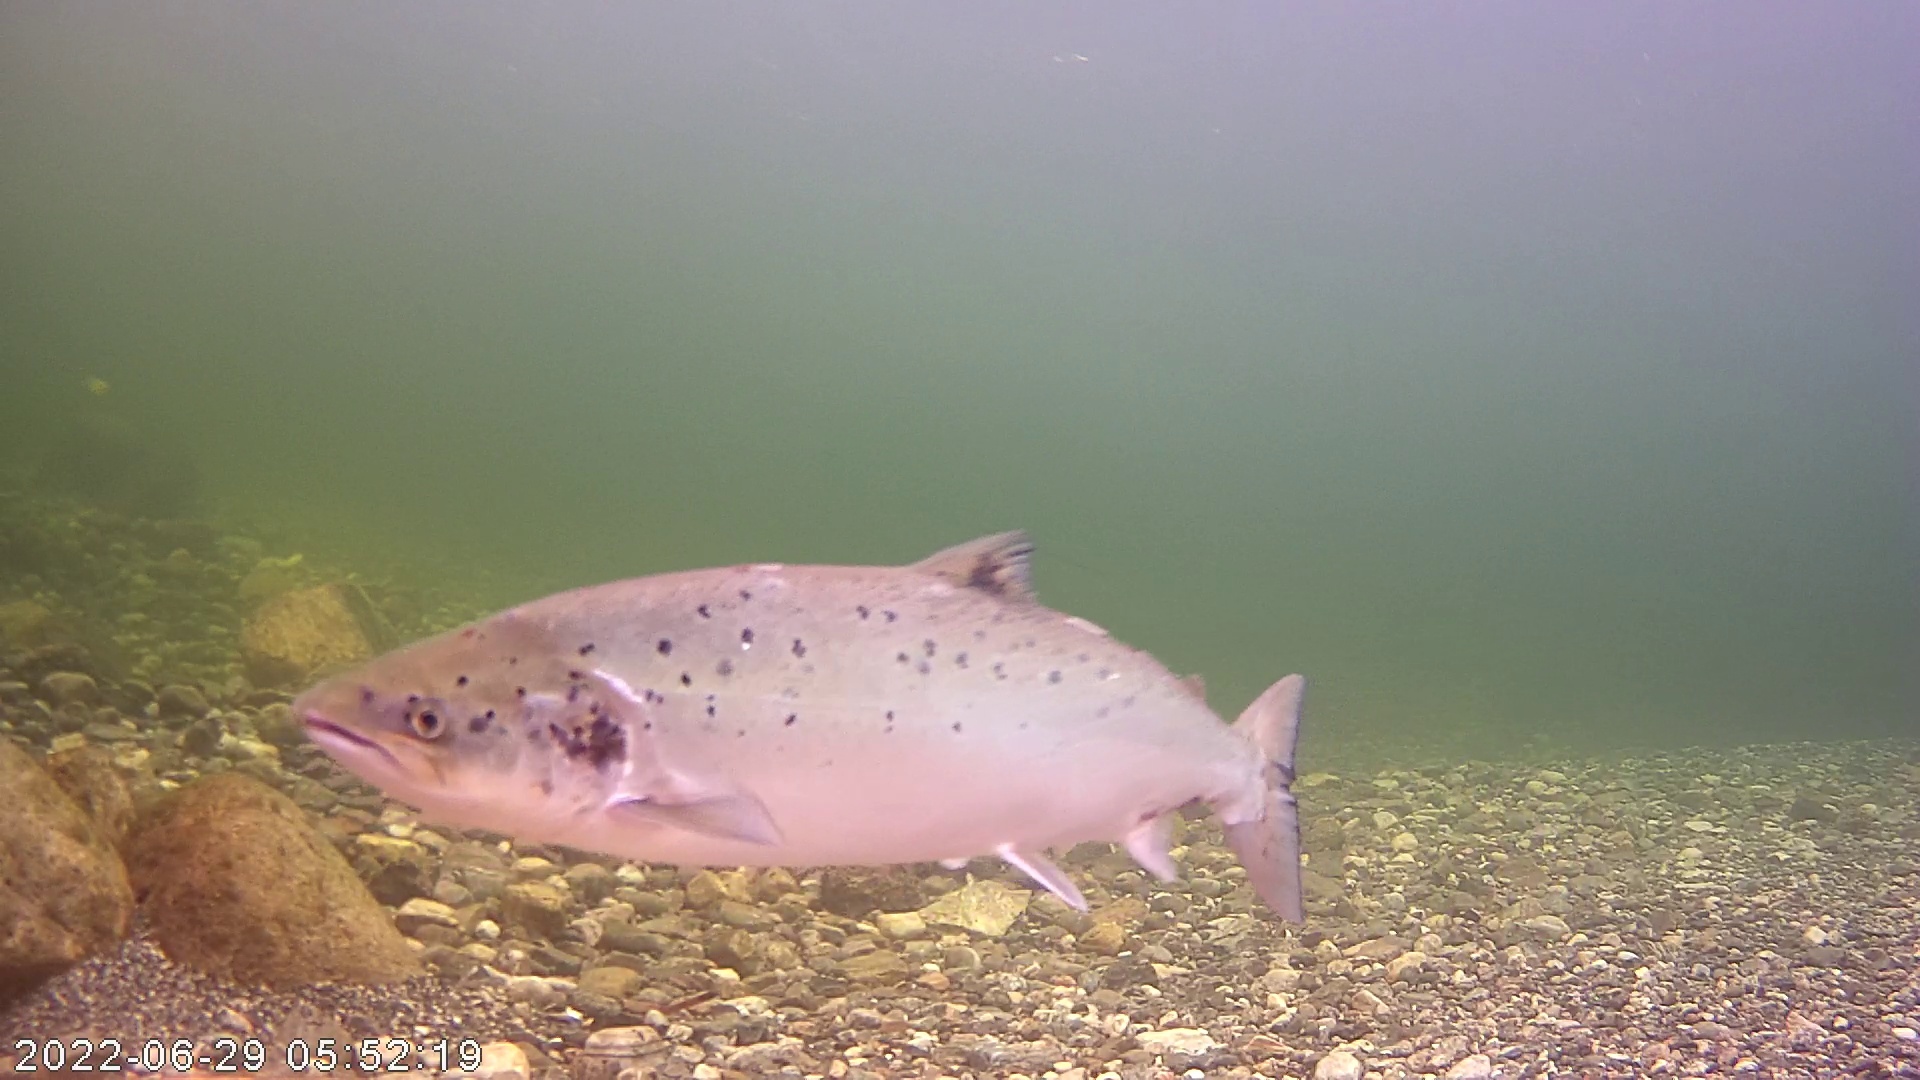salmon: (293, 421, 1313, 907)
